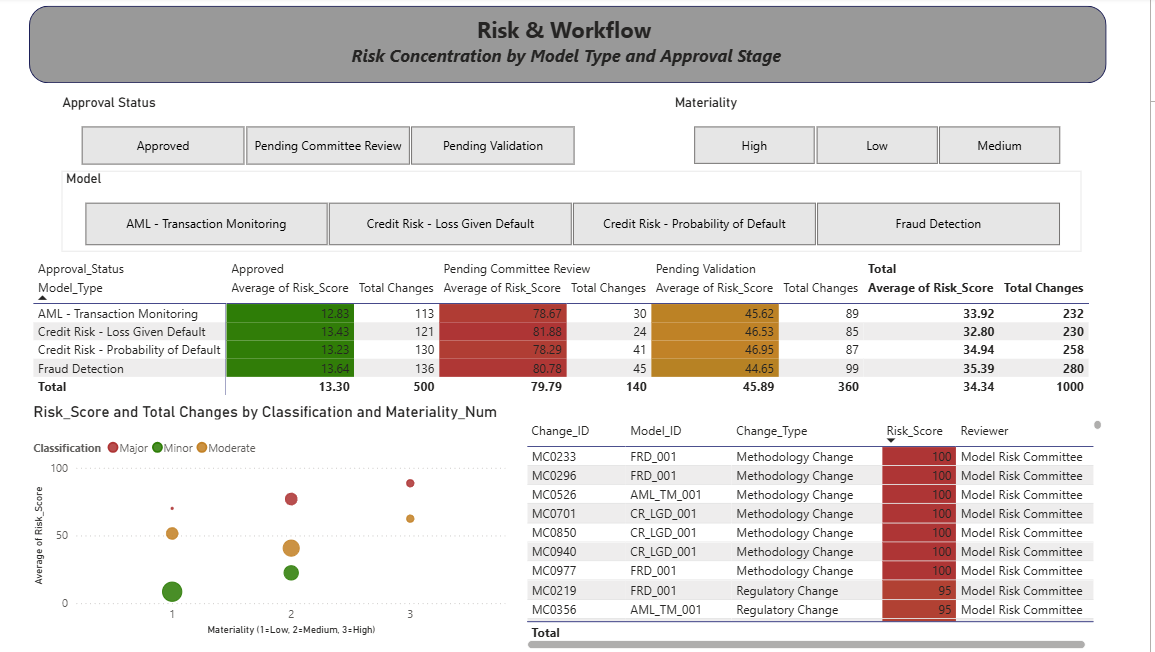

The dashboard page shown, as its layout file describes it:
{"tool":"powerbi","page":{"name":"Risk and Workflow","canvas":[1280,720],"ordinal":1},"visuals":[{"type":"pivotTable","fields":{"Rows":["Governance.Model_Type"],"Columns":["Governance.Approval_Status"],"Values":["Avg(Governance.Risk_Score)","_Measures.Total Changes"]},"box":[49.4,282.7,1182.9,161.9],"z":0},{"type":"scatterChart","title":"Risk_Score and Total Changes by Classification and Materiality_Num","fields":{"X":["Governance.Materiality_Num"],"Y":["Avg(Governance.Risk_Score)"],"Series":["Governance.Classification"],"Size":["_Measures.Total Changes"]},"box":[49.4,444.6,528.3,260.7],"z":1000},{"type":"tableEx","fields":{"Values":["Governance.Change_ID","Governance.Model_ID","Governance.Change_Type","Governance.Risk_Score","Governance.Reviewer"]},"box":[590.1,459.7,642.2,260.7],"z":2000},{"type":"slicer","title":"Materiality","fields":{"Values":["Governance.Materiality"]},"box":[753.3,107,451.9,83.1],"z":2001},{"type":"slicer","title":"Approval Status","fields":{"Values":["Governance.Approval_Status"]},"box":[81,107,591.4,83.7],"z":2002},{"type":"slicer","title":"Model","fields":{"Values":["Governance.Model_Type"]},"box":[85.1,190.7,1119.6,88.9],"z":2003},{"type":"shape","box":[49.4,9.6,1182.9,85.1],"z":2004},{"type":"textbox","box":[81,15.1,1111.5,70],"z":2005}]}

Visuals, with their boxes in screenshot pixels (x1, y1, x2, y2), scaled from the page's 1280x720 canvas onto the 1155x652 screenshot:
pivotTable - Governance.Model_Type x Governance.Approval_Status: 45:256:1112:403
"Risk_Score and Total Changes by Classification and Materiality_Num" scatterChart: 45:403:521:639
tableEx - Governance.Change_ID x Governance.Model_ID: 532:416:1112:651
"Materiality" slicer: 680:97:1088:172
"Approval Status" slicer: 73:97:607:173
"Model" slicer: 77:173:1087:253
shape: 45:9:1112:86
textbox: 73:14:1076:77
